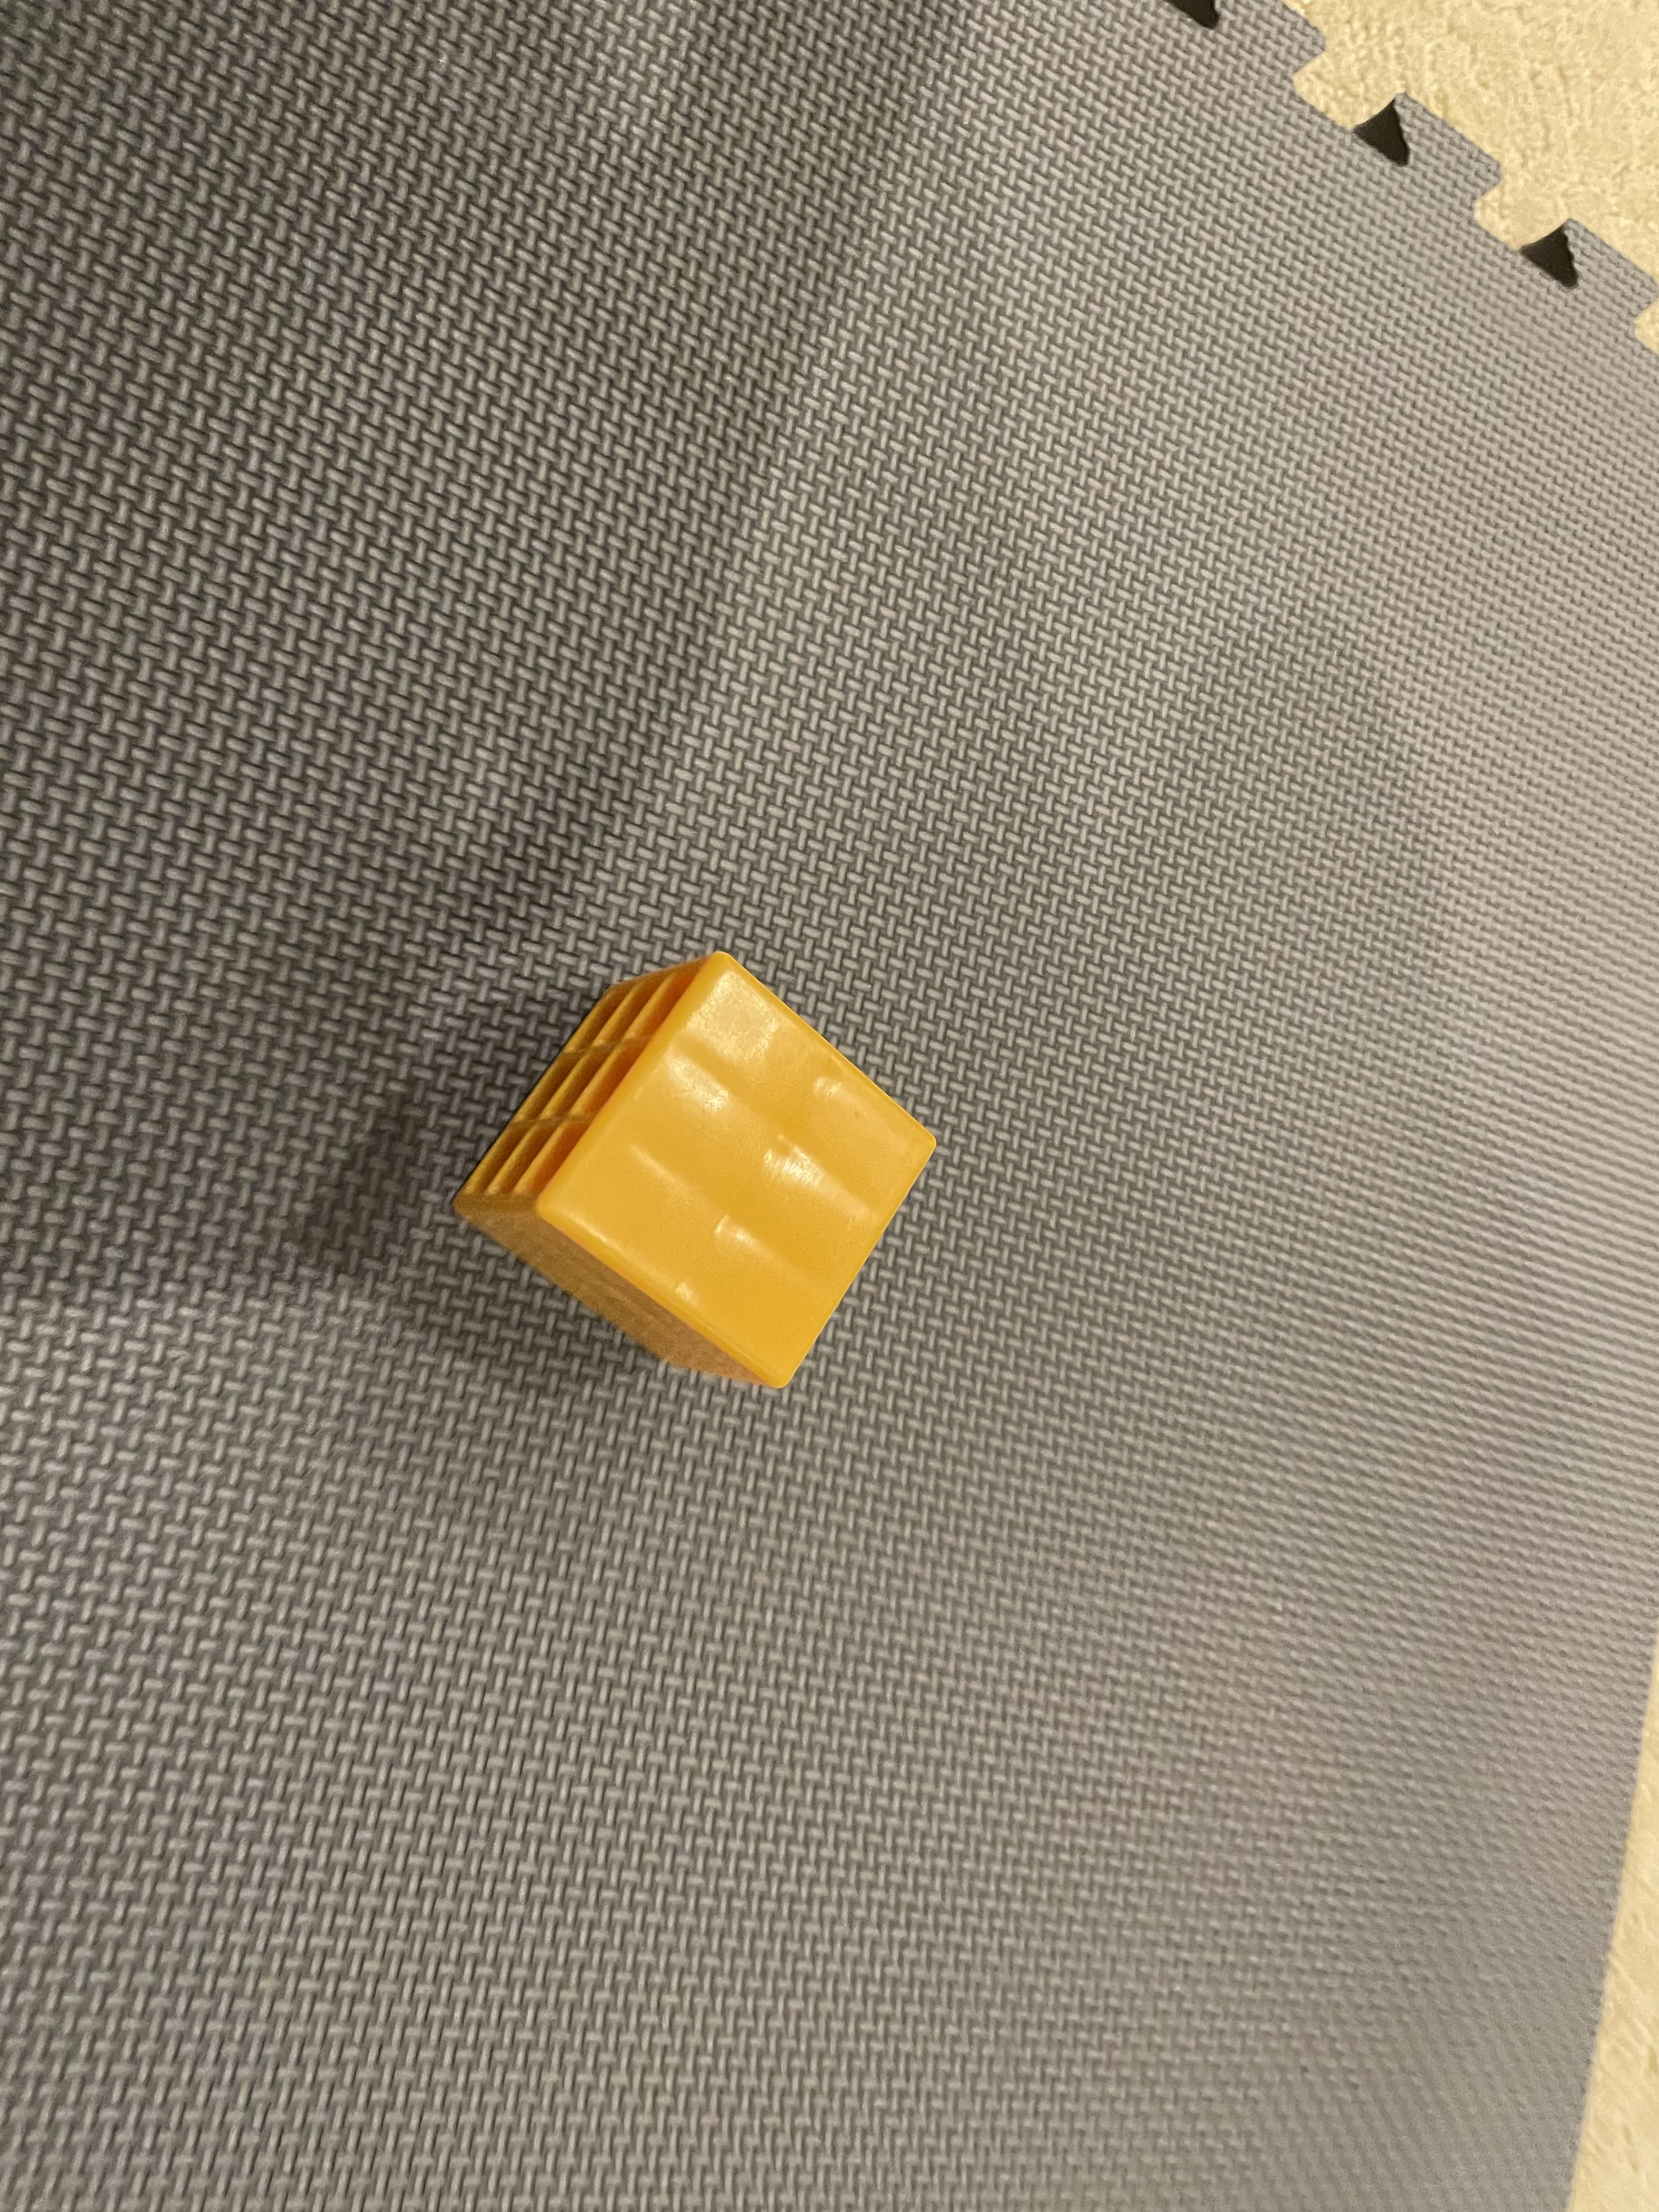cube: (439, 900, 981, 1467)
